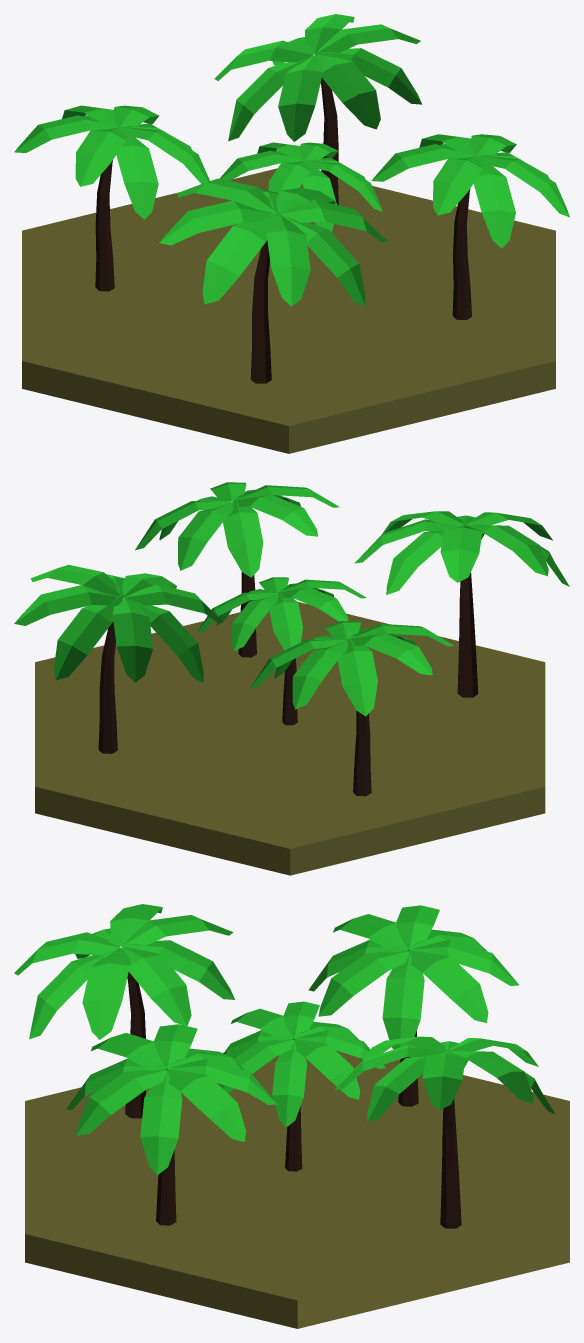
The model's file is Tile_14.FBX.
3 views of the same model, one above another, from view 1: azimuth 30°, elevation 25°; view 2: azimuth 150°, elevation 25°; view 3: azimuth 270°, elevation 25° (orthographic). The views are drawn at different scales.
Visible parts, largest first — view 1: Ground; view 2: Ground; view 3: Ground.
Boxes of the visible parts, bbox=[...] form: Ground: bbox=[14, 14, 569, 453]; Ground: bbox=[14, 482, 569, 875]; Ground: bbox=[14, 904, 569, 1328].
Size of the model in its own units: 100 by 37.7 by 88.37.
